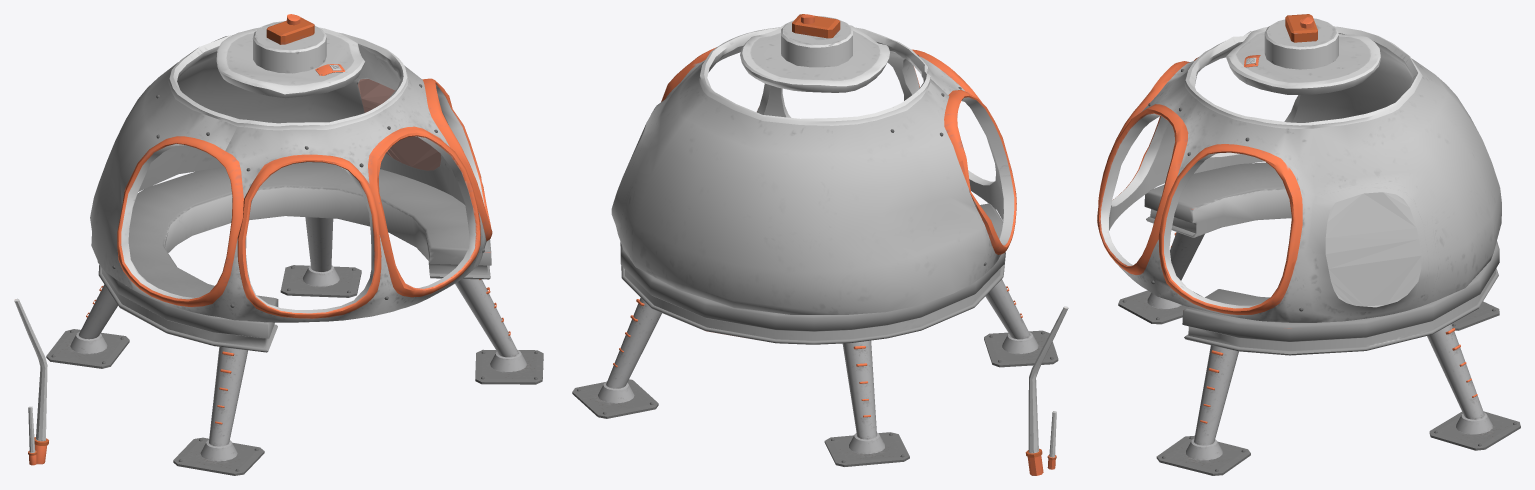
File: Station_Damaged.fbx
The picture shows the model from 3 angles, left to right: view 1: azimuth 30°, elevation 25°; view 2: azimuth 150°, elevation 25°; view 3: azimuth 270°, elevation 25°; orthographic projection.
Visible parts, largest first — view 1: Station_Dome_DMG, Station_DomeLegs_DMG, Station_Anten_DMG1; view 2: Station_Dome_DMG, Station_DomeLegs_DMG, Station_Anten_DMG1; view 3: Station_Dome_DMG, Station_DomeLegs_DMG.
Boxes of the visible parts, bbox=[...] form: Station_Dome_DMG: bbox=[90, 14, 492, 322]; Station_DomeLegs_DMG: bbox=[46, 162, 543, 475]; Station_Anten_DMG1: bbox=[14, 298, 48, 464]; Station_Dome_DMG: bbox=[611, 14, 1016, 314]; Station_DomeLegs_DMG: bbox=[572, 203, 1058, 466]; Station_Anten_DMG1: bbox=[1025, 306, 1068, 475]; Station_Dome_DMG: bbox=[1097, 14, 1501, 322]; Station_DomeLegs_DMG: bbox=[1118, 162, 1520, 475].
Bounding box in the file's own units: 21.17 × 16.9 × 16.28.
